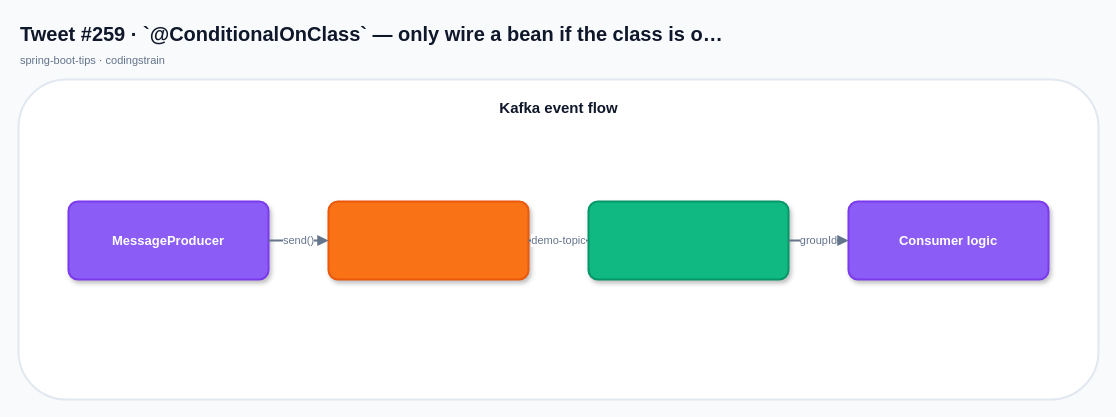
Image size: 1116x417. Some labels were removed from this diagram. Here are the shapes that lost their labels. From the top down, the centre of each, then its label:
At (x=429, y=241): "Kafka Topic".
At (x=689, y=241): "@KafkaListener".
